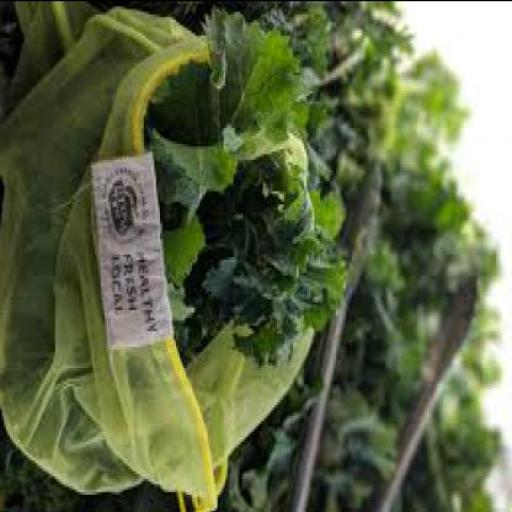biodegradable: (223, 53, 508, 509), (194, 1, 416, 217), (168, 148, 354, 364), (148, 6, 330, 208)
